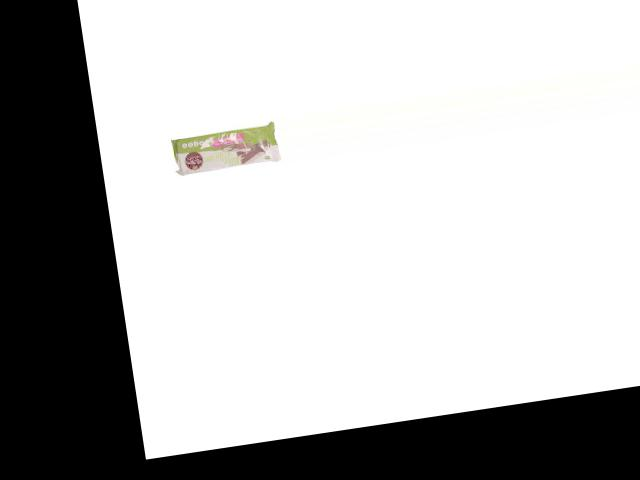chocolate: (167, 122, 281, 181)
